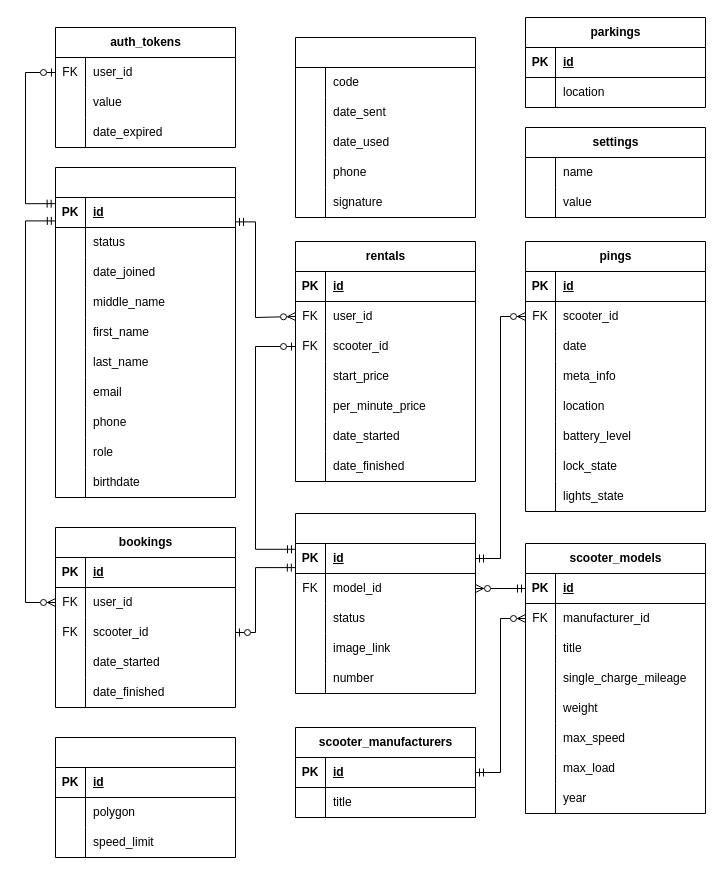
Some shapes in this 723 by 875 pixel diagram are drawn without their labels. The shapes that lost their labels are listed below. From the top down, each one's box as (x1, y1, x2, y2) in pixels, then its label:
(294, 36, 476, 218): totp
(54, 166, 236, 498): users
(294, 512, 476, 694): scooters
(54, 736, 236, 858): restricted_zones
